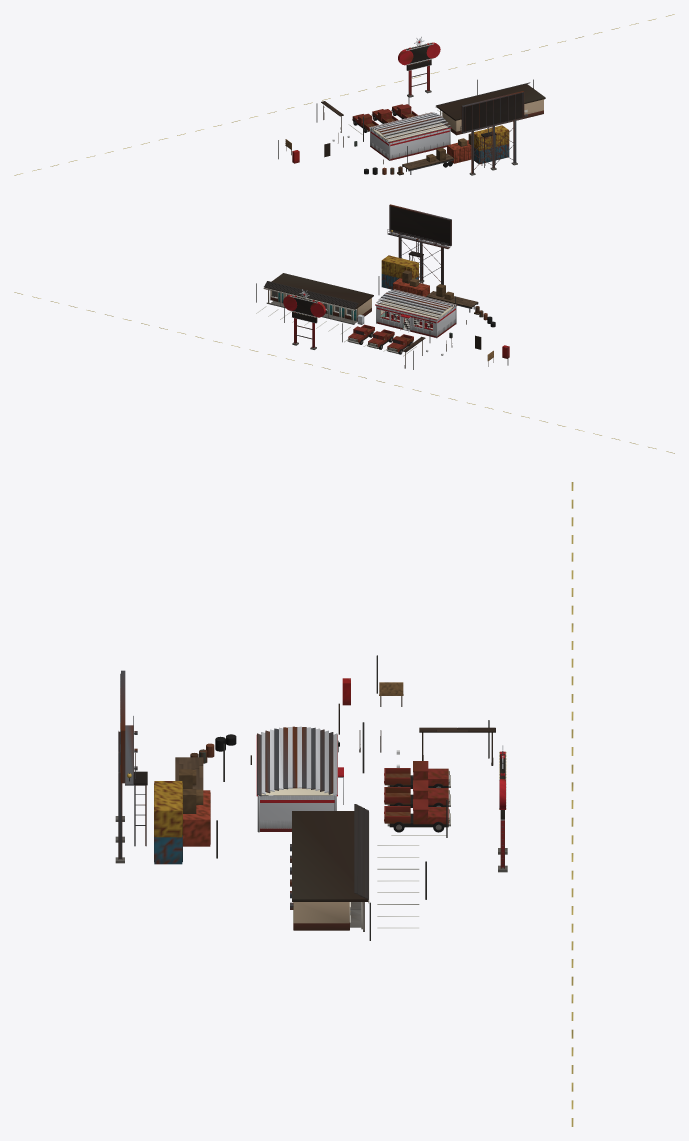
File: CannibalFamilyMeshes7.glb
3 renders of one model, top to bottom at view 1: azimuth 30°, elevation 25°; view 2: azimuth 150°, elevation 25°; view 3: azimuth 270°, elevation 25°, orthographic. The views are drawn at different scales.
Visible parts, largest first — view 1: LobbyParts_hs_rust, TruckStopDiner_ts_chrome, TruckStopBillboard_ts_board, TruckStopBillboard_ts_steel, TruckStopMotel_roof_deck, TruckStopDiner_ts_steel, LobbyParts_hs_plastic, TruckStopPylon_ts_red, LobbyParts_hs_metal, TruckStopDiner_ts_red, TruckStopPylon_ts_board, TruckStopDiner_ts_cream (+3 smaller); view 2: LobbyParts_hs_rust, TruckStopDiner_ts_chrome, TruckStopBillboard_ts_board, TruckStopMotel_roof_deck, TruckStopBillboard_ts_steel, TruckStopDiner_ts_steel, LobbyParts_hs_metal, LobbyParts_hs_plastic, TruckStopMotel_shingle, TruckStopPylon_ts_red, TruckStopDiner_ts_red, LobbyParts_hs_wood (+4 smaller); view 3: LobbyParts_hs_rust, TruckStopMotel_roof_deck, TruckStopDiner_ts_chrome, TruckStopDiner_ts_steel, LobbyParts_hs_plastic, TruckStopBillboard_ts_steel, LobbyParts_hs_metal, TruckStopMotel_shingle, TruckStopMotel_ts_stucco, LobbyParts_hs_floor.
Boxes of the visible parts, bbox=[...] form: LobbyParts_hs_rust: bbox=[352, 104, 509, 174]; TruckStopDiner_ts_chrome: bbox=[369, 112, 450, 160]; TruckStopBillboard_ts_board: bbox=[463, 92, 523, 137]; TruckStopBillboard_ts_steel: bbox=[460, 91, 524, 173]; TruckStopMotel_roof_deck: bbox=[436, 84, 545, 120]; TruckStopDiner_ts_steel: bbox=[370, 112, 450, 142]; LobbyParts_hs_plastic: bbox=[14, 14, 674, 175]; TruckStopPylon_ts_red: bbox=[398, 41, 440, 95]; LobbyParts_hs_metal: bbox=[278, 79, 533, 174]; TruckStopDiner_ts_red: bbox=[369, 127, 451, 160]; TruckStopPylon_ts_board: bbox=[406, 43, 431, 70]; TruckStopDiner_ts_cream: bbox=[372, 122, 447, 141]; LobbyParts_hs_rust: bbox=[348, 255, 487, 351]; TruckStopDiner_ts_chrome: bbox=[375, 289, 456, 338]; TruckStopBillboard_ts_board: bbox=[390, 206, 450, 257]; TruckStopMotel_roof_deck: bbox=[264, 273, 373, 309]; TruckStopBillboard_ts_steel: bbox=[387, 204, 451, 284]; TruckStopDiner_ts_steel: bbox=[376, 289, 456, 317]; LobbyParts_hs_metal: bbox=[256, 229, 509, 369]; LobbyParts_hs_plastic: bbox=[14, 292, 674, 453]; TruckStopMotel_shingle: bbox=[264, 281, 358, 308]; TruckStopPylon_ts_red: bbox=[283, 293, 325, 347]; TruckStopDiner_ts_red: bbox=[375, 304, 457, 337]; LobbyParts_hs_wood: bbox=[402, 270, 481, 349]; LobbyParts_hs_rust: bbox=[154, 743, 448, 864]; TruckStopMotel_roof_deck: bbox=[292, 811, 368, 901]; TruckStopDiner_ts_chrome: bbox=[257, 726, 343, 832]; TruckStopDiner_ts_steel: bbox=[257, 726, 333, 796]; LobbyParts_hs_plastic: bbox=[215, 482, 573, 1126]; TruckStopBillboard_ts_steel: bbox=[118, 670, 146, 859]; LobbyParts_hs_metal: bbox=[127, 655, 489, 940]; TruckStopMotel_shingle: bbox=[354, 804, 368, 899]; TruckStopMotel_ts_stucco: bbox=[293, 902, 349, 923]; LobbyParts_hs_floor: bbox=[175, 727, 495, 789].
Size of the model in its own units: 438 by 44.85 by 131.
